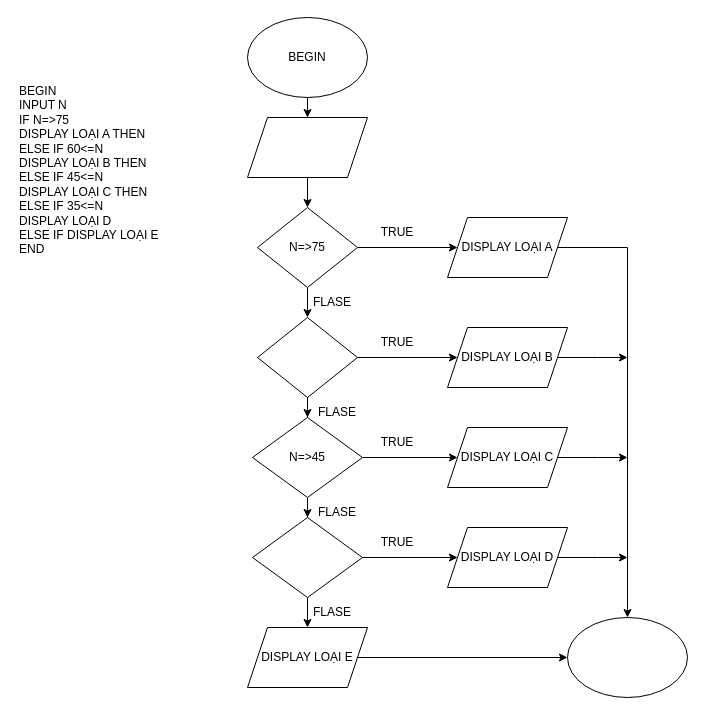
Some shapes in this 705 by 715 pixel diagram are drawn without their labels. Each missing label, with the centre of its shape:
"END" belongs at (627,657).
"INPUT N" belongs at (307,147).
"N=>35" belongs at (307,557).
"N=>60" belongs at (307,357).
